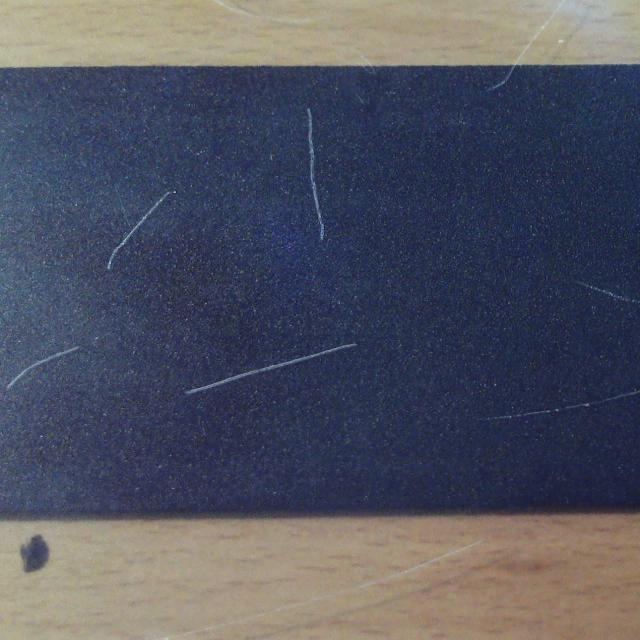defect: (186, 342, 357, 396), (472, 385, 640, 425), (106, 191, 176, 271), (302, 105, 332, 245), (5, 346, 79, 390), (572, 269, 640, 312), (486, 66, 518, 96)
